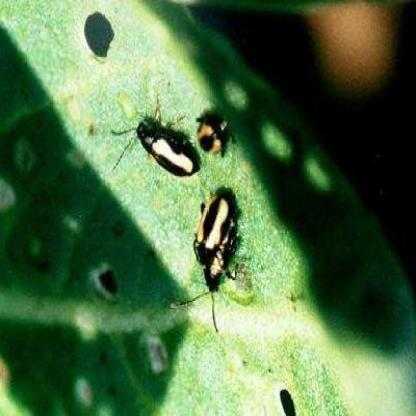beetle: (190, 172, 242, 310), (128, 116, 204, 186), (194, 100, 236, 158)
